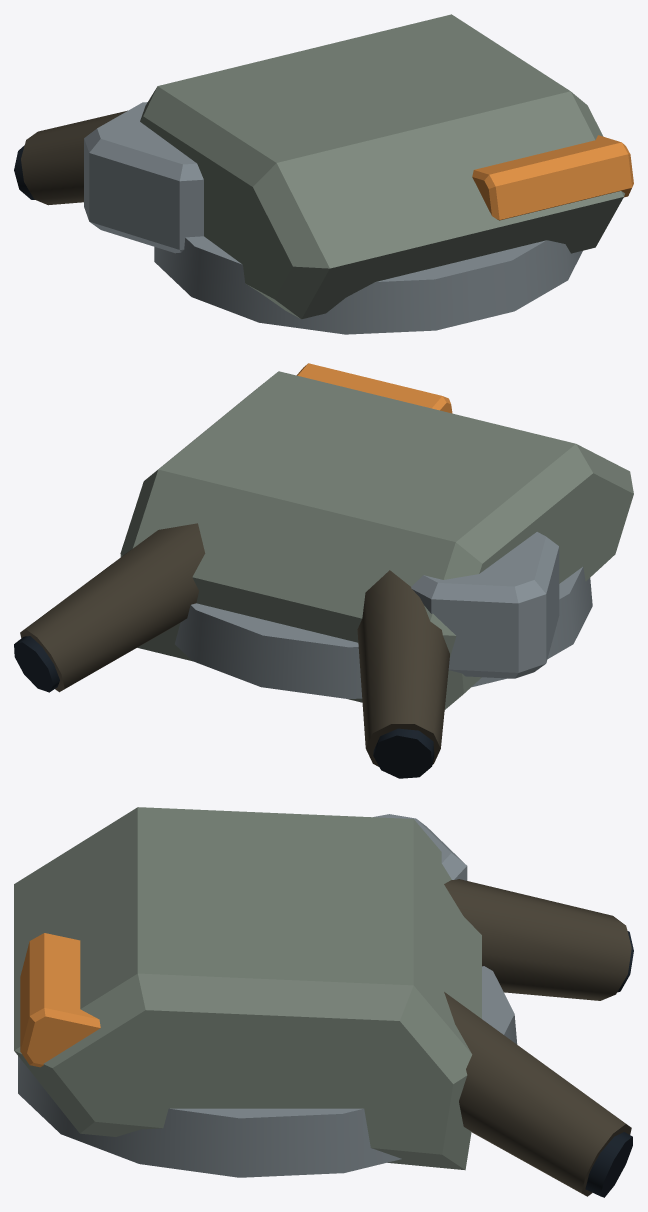
File: turret_wreck.glb
The picture shows the model from 3 angles, top to bottom: view 1: azimuth 30°, elevation 25°; view 2: azimuth 150°, elevation 25°; view 3: azimuth 270°, elevation 25°; orthographic projection. The views are drawn at different scales.
Visible parts, largest first — view 1: turret_wreck; view 2: turret_wreck; view 3: turret_wreck.
Part boxes in pixels (bbox=[...]): turret_wreck: bbox=[14, 14, 633, 334]; turret_wreck: bbox=[14, 363, 633, 778]; turret_wreck: bbox=[14, 807, 633, 1197].
Bounding box in the file's own units: 1.06 × 0.4121 × 1.14.
